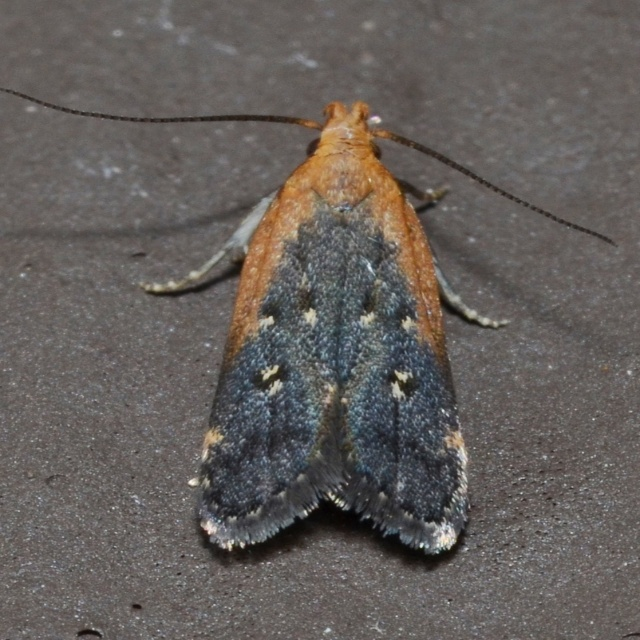Moths and butterflies: (0, 88, 625, 556)
